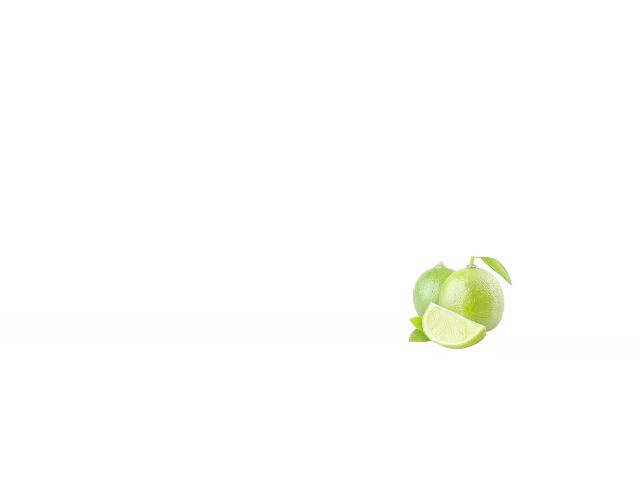lemon: (441, 264, 505, 329)
